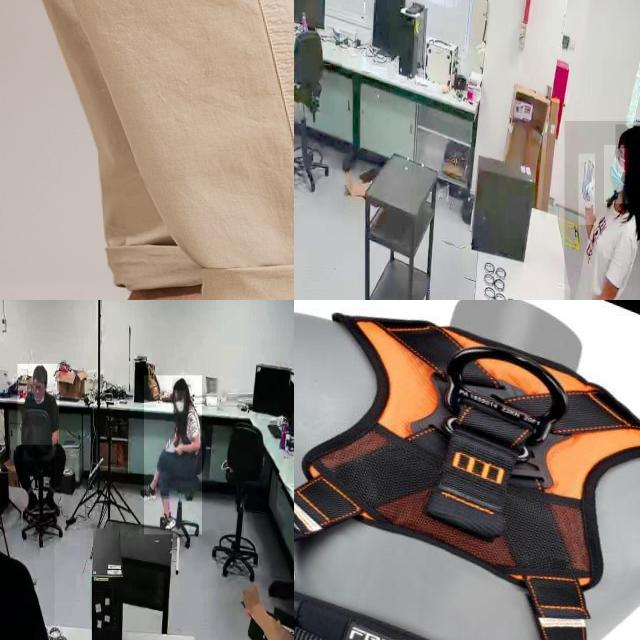Harness: (294, 300, 625, 640)
face_mask: (604, 145, 630, 203), (174, 391, 186, 414)
face_nomask: (32, 384, 45, 401)
glasses: (31, 382, 45, 396)
hand_glove: (579, 154, 595, 225)
hand_noglove: (173, 441, 185, 455)
head_nohelmet: (615, 124, 640, 149), (32, 364, 47, 382), (172, 377, 190, 391)
person: (0, 383, 54, 640), (564, 120, 640, 300), (144, 376, 202, 536), (18, 364, 60, 444)
shoes: (43, 488, 62, 516), (23, 487, 41, 514), (140, 480, 160, 504), (158, 512, 177, 531)
